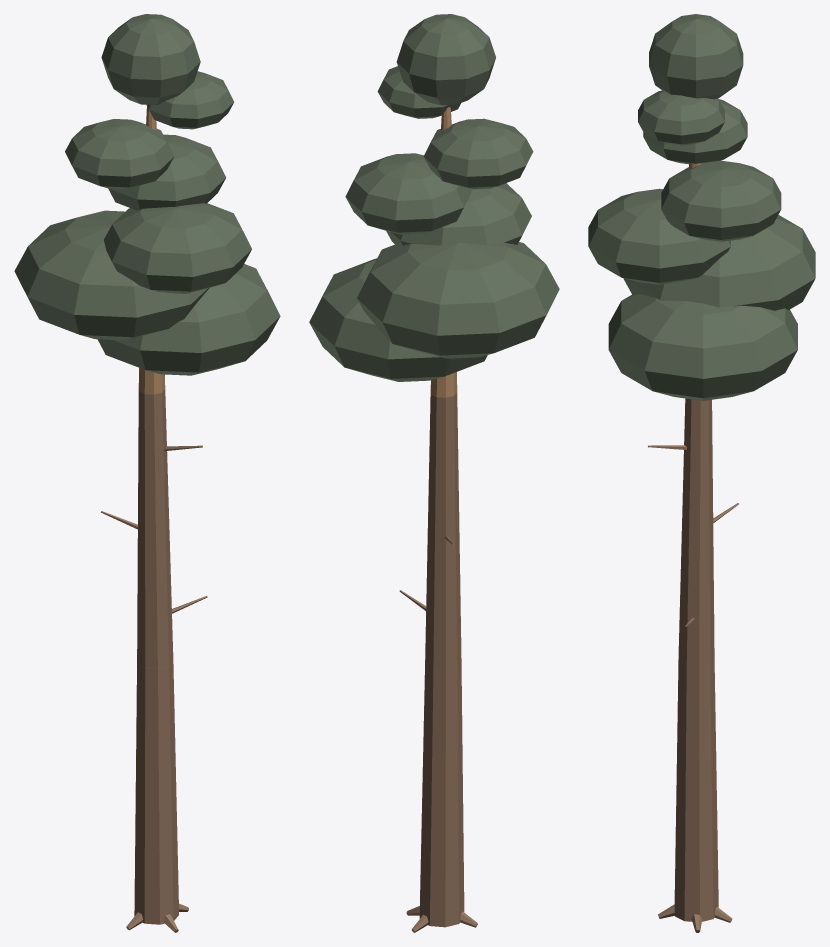
File: TallPineC.fbx
The picture shows the model from 3 angles, left to right: view 1: azimuth 30°, elevation 25°; view 2: azimuth 150°, elevation 25°; view 3: azimuth 270°, elevation 25°; orthographic projection.
Visible parts, largest first — view 1: TallPineC; view 2: TallPineC; view 3: TallPineC.
Boxes of the visible parts, box(x1,y1,x2,y2) form: TallPineC: box(14, 14, 280, 932); TallPineC: box(309, 14, 559, 932); TallPineC: box(588, 14, 815, 932).
Size of the model in its own units: 429 by 1595 by 367.
